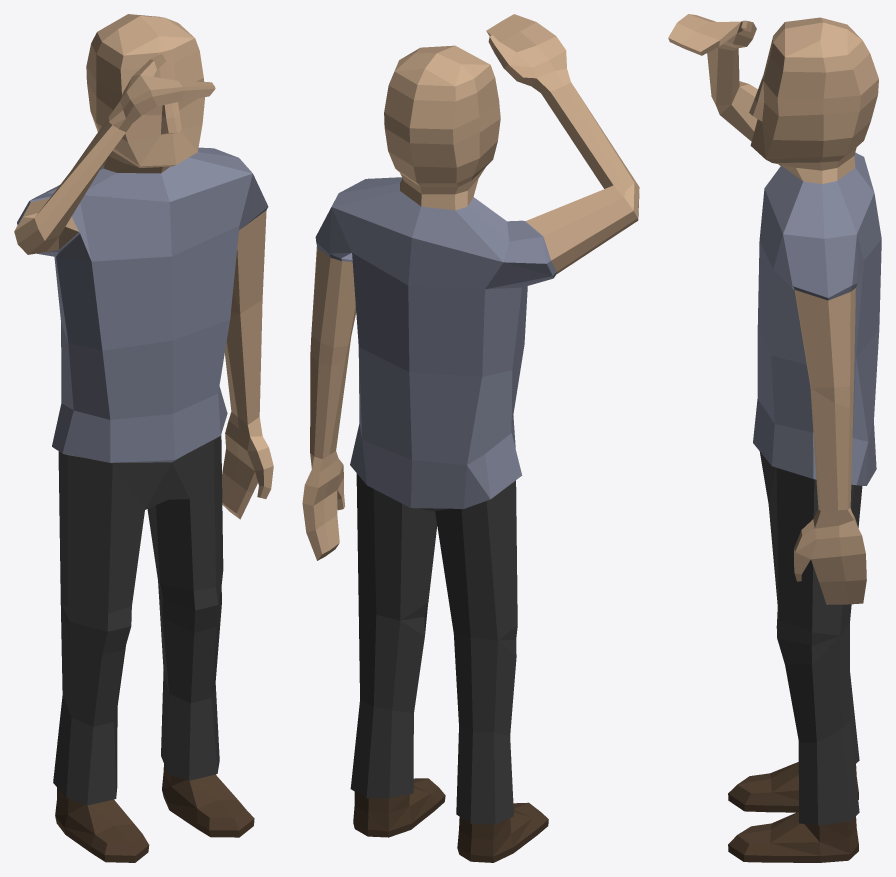
Rendered from crowd_eclair_male_standing_coveringeyes.23b642d2.glb.
The picture shows the model from 3 angles, left to right: view 1: azimuth 30°, elevation 25°; view 2: azimuth 150°, elevation 25°; view 3: azimuth 270°, elevation 25°; orthographic projection. The views are drawn at different scales.
Visible parts, largest first — view 1: Shirt, Pants, Skin, Shoes; view 2: Shirt, Pants, Skin, Shoes; view 3: Skin, Shirt, Pants, Shoes.
Boxes of the visible parts, x1,y1,x2,y2 form: Shirt: (17, 147, 268, 462); Pants: (53, 435, 223, 805); Skin: (14, 14, 273, 519); Shoes: (55, 764, 254, 862); Shirt: (315, 177, 556, 508); Pants: (350, 473, 517, 824); Skin: (302, 14, 639, 560); Shoes: (353, 778, 548, 862); Skin: (668, 14, 878, 604); Shirt: (753, 152, 881, 485); Pants: (759, 451, 862, 825); Shoes: (728, 762, 858, 862).
Bounding box in the file's own units: 1.44 × 3.85 × 0.9277.
